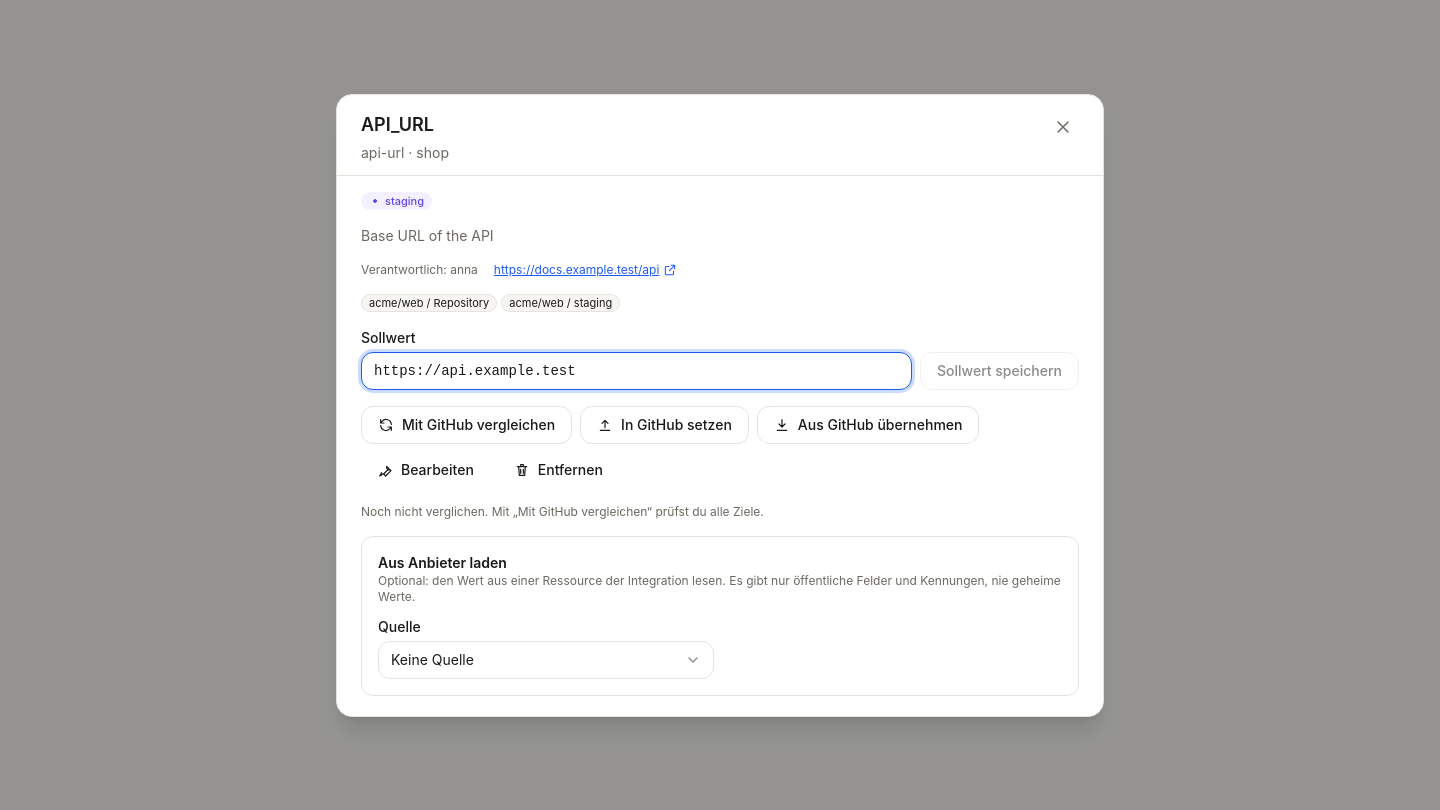
Test: VariableDetail › sets the value in GitHub and lists the result per target
This screenshot has width=1440, height=810.
Click the button "In GitHub setzen" at (664, 424), box x1=580 y1=406 x2=749 y2=444
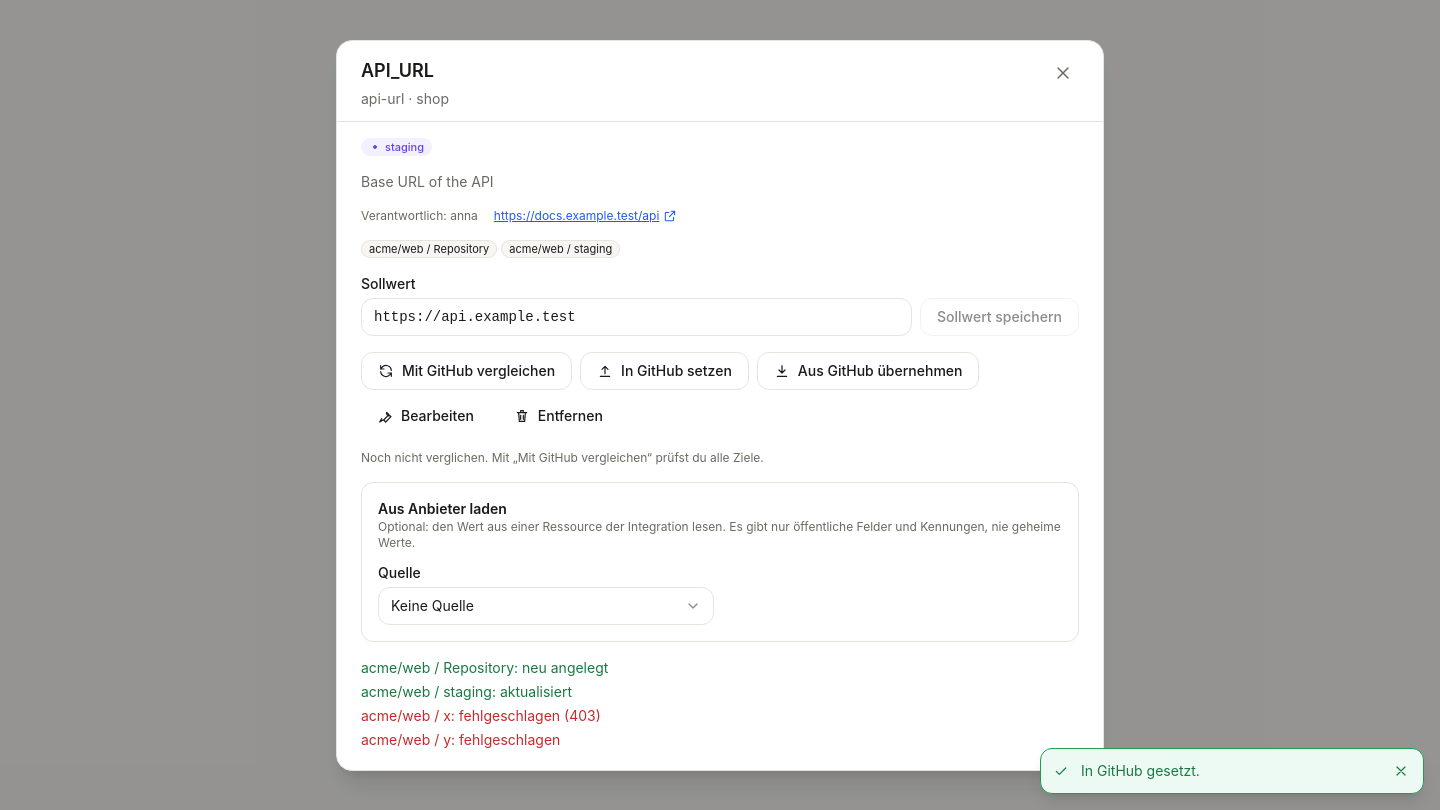
expect the text "In GitHub gesetzt." is shown: met, box x1=1081 y1=762 x2=1200 y2=779
expect the list item "acme/web / Repository: neu angelegt" is shown: met, box x1=361 y1=658 x2=608 y2=676
expect the list item "acme/web / staging: aktualisiert" is shown: met, box x1=361 y1=682 x2=572 y2=700
